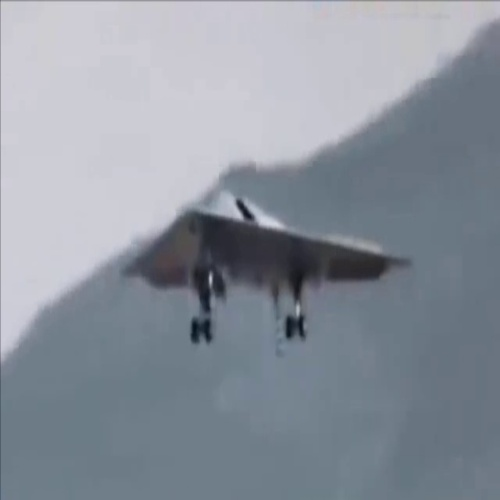uav983: (116, 186, 414, 352)
